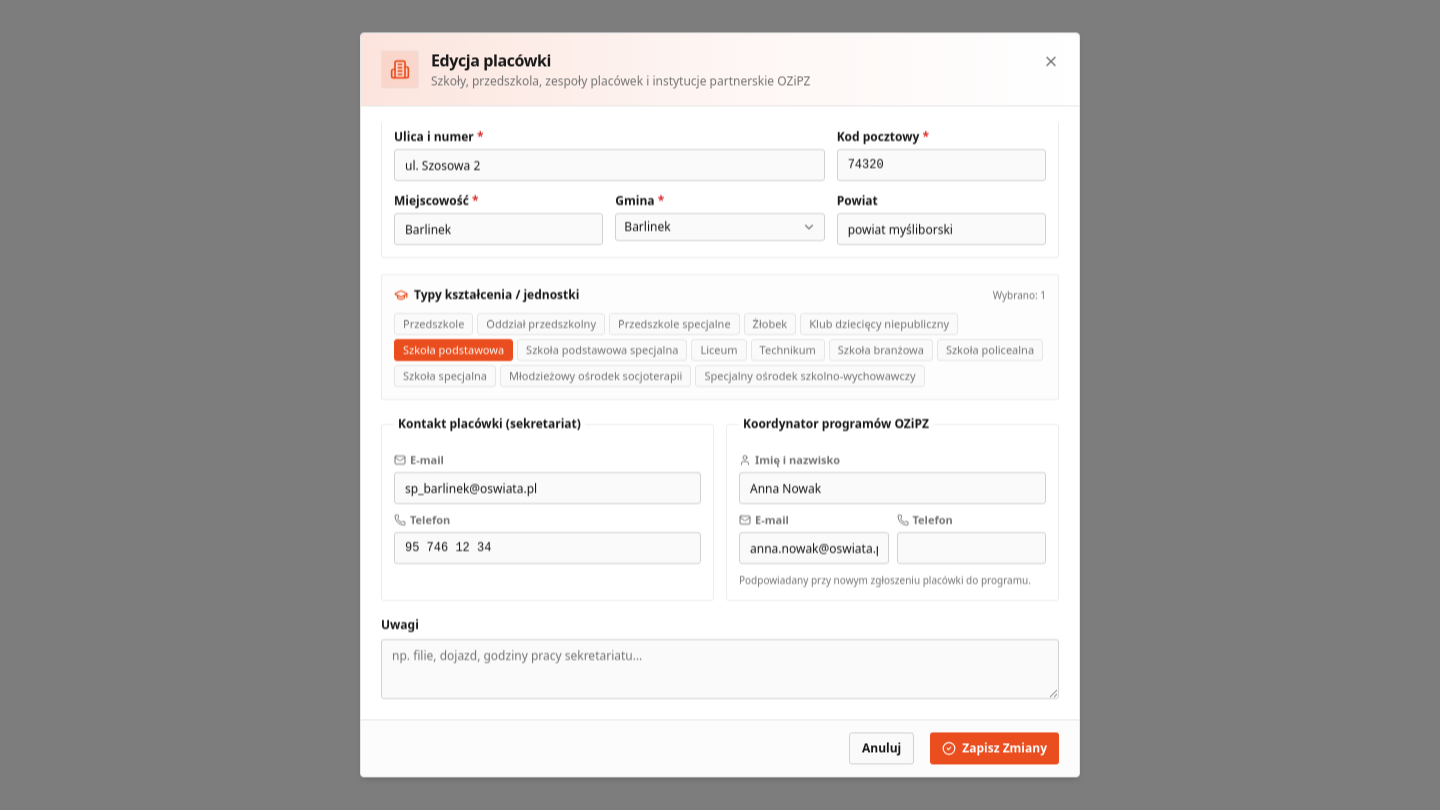
FacilityDialog › rejects a malformed postal code and e-mail
(page scrolled)
Replace the text in the field labelled "E-mail" below "Kontakt placówki (sekretariat)" with "zly-adres" at x=548, y=488, box [394,472,701,504]
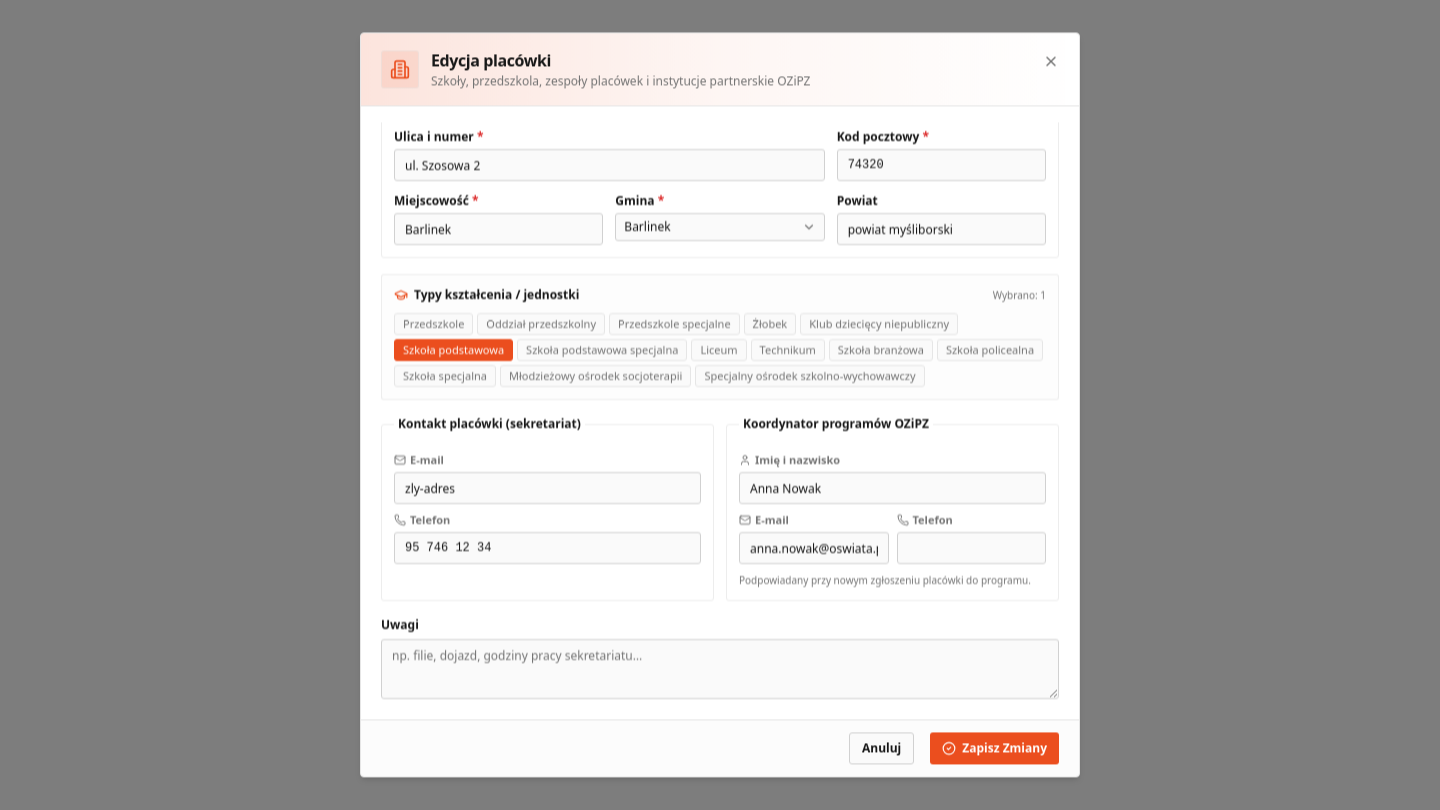
Click the button "Zapisz Zmiany" at x=995, y=749, box [930,733,1059,765]
(page scrolled)
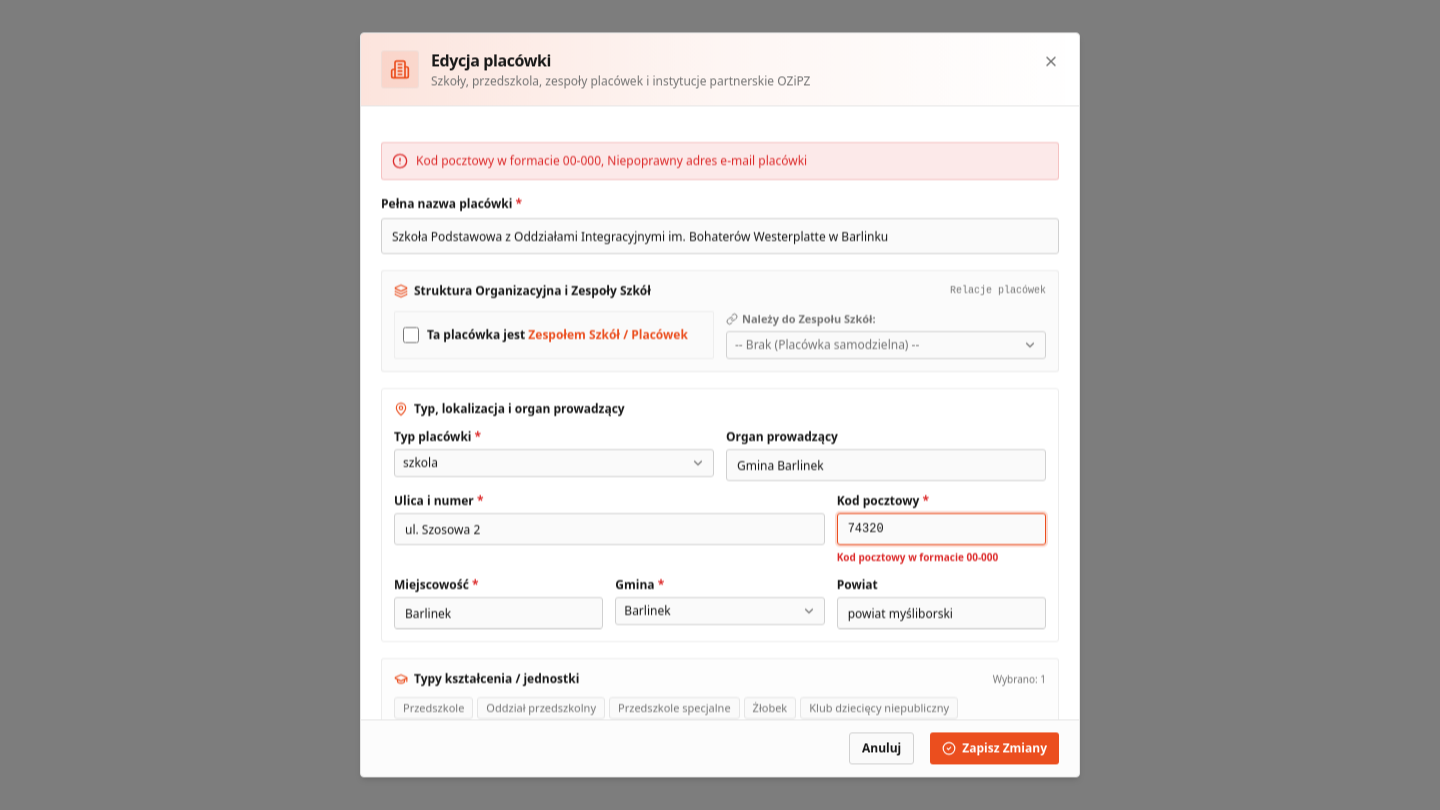
Now the text "Niepoprawny adres e-mail placówki" is shown, box [416,152,807,169]
